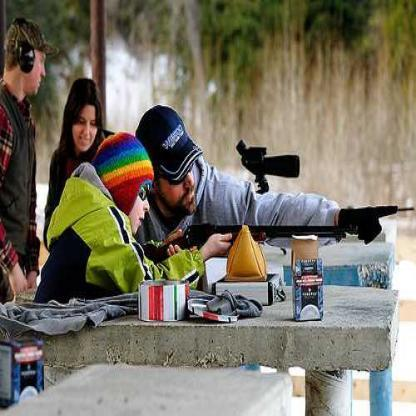rifle: (144, 206, 358, 276)
